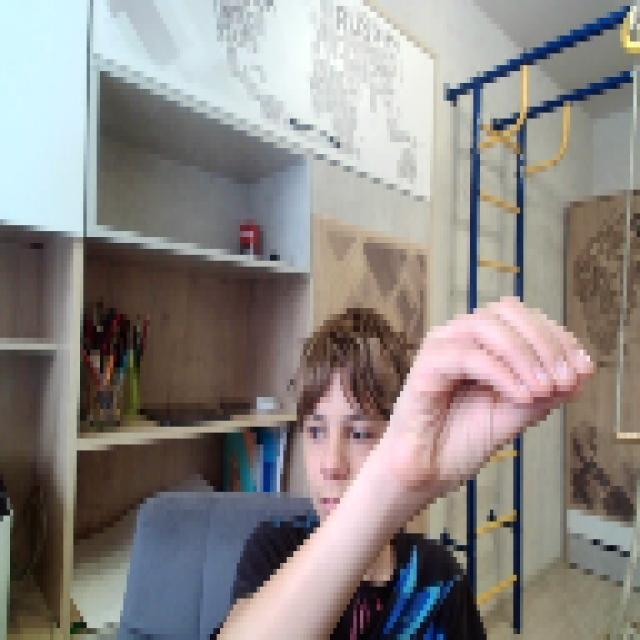left_click: (407, 284, 593, 480)
